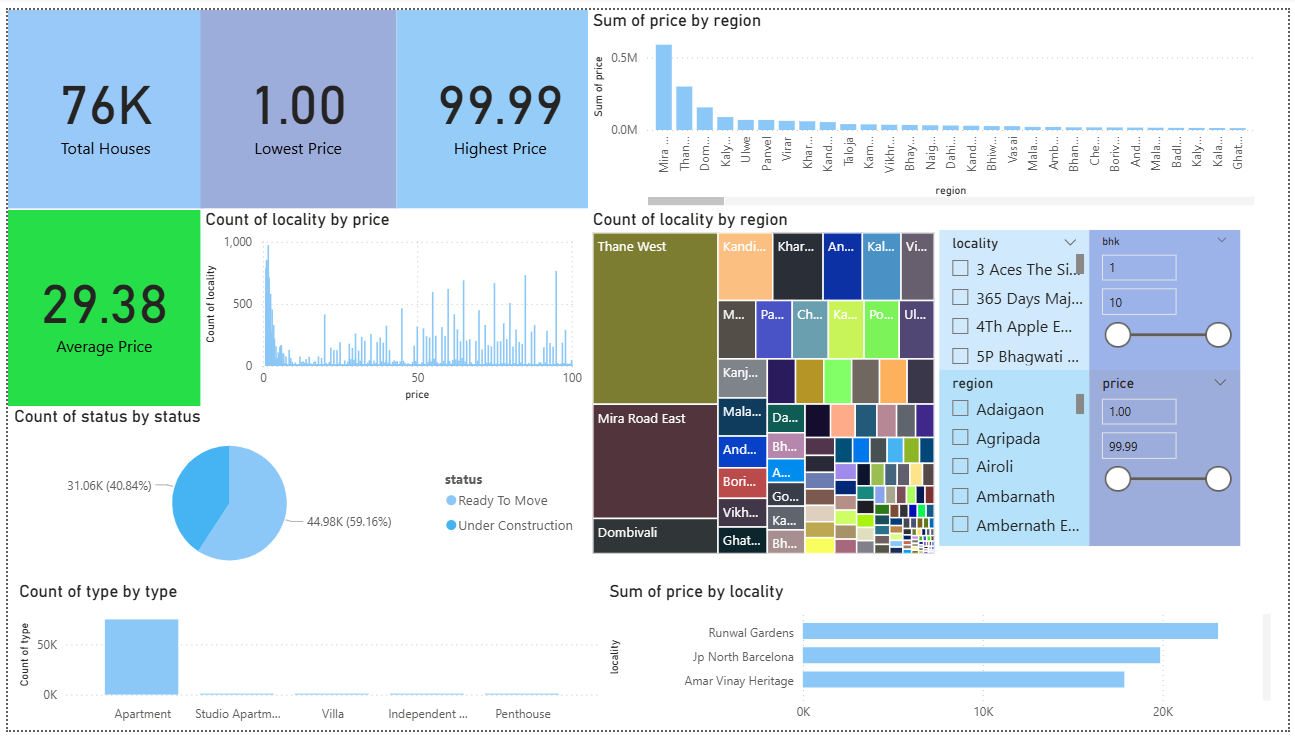

This screenshot's page, from the dashboard's own definition file:
{"tool":"powerbi","page":{"name":"Page 1","canvas":[1280,720],"ordinal":0},"visuals":[{"type":"card","fields":{"Values":["mumbai_house_prices_cleaned.Total Houses"]},"box":[0,0,195.7,198.6],"z":0},{"type":"card","fields":{"Values":["mumbai_house_prices_cleaned.Average Price"]},"box":[0,200,192.9,195.7],"z":1000},{"type":"card","fields":{"Values":["mumbai_house_prices_cleaned.Highest Price"]},"box":[388.6,0,207.1,198.6],"z":2000},{"type":"card","fields":{"Values":["mumbai_house_prices_cleaned.Lowest Price"]},"box":[192.9,0,195.7,198.6],"z":3000},{"type":"clusteredColumnChart","fields":{"Y":["CountNonNull(mumbai_house_prices_cleaned.locality)"],"Category":["mumbai_house_prices_cleaned.price"]},"box":[192.9,198.6,387.1,197.1],"z":4000},{"type":"clusteredColumnChart","fields":{"Category":["mumbai_house_prices_cleaned.region"],"Y":["Sum(mumbai_house_prices_cleaned.price)"]},"box":[580,0,671.4,200],"z":5000},{"type":"clusteredBarChart","fields":{"Category":["mumbai_house_prices_cleaned.locality"],"Y":["Sum(mumbai_house_prices_cleaned.price)"]},"box":[595.7,571.4,671.4,148.6],"z":6000},{"type":"pieChart","fields":{"Category":["mumbai_house_prices_cleaned.status"],"Y":["CountNonNull(mumbai_house_prices_cleaned.status)"]},"box":[1.2,396.2,578.8,175],"z":7000},{"type":"columnChart","fields":{"Category":["mumbai_house_prices_cleaned.type"],"Y":["CountNonNull(mumbai_house_prices_cleaned.type)"]},"box":[5.7,571.4,590,148.6],"z":8000},{"type":"treemap","fields":{"Values":["CountNonNull(mumbai_house_prices_cleaned.locality)"],"Details":["mumbai_house_prices_cleaned.region"]},"box":[580,198.6,351.4,350],"z":9000},{"type":"slicer","fields":{"Values":["mumbai_house_prices_cleaned.locality"]},"box":[931.4,220,150,140],"z":10000},{"type":"slicer","fields":{"Values":["mumbai_house_prices_cleaned.region"]},"box":[931.4,360,150,175.7],"z":11000},{"type":"slicer","fields":{"Values":["mumbai_house_prices_cleaned.bhk"]},"box":[1081.4,220,150,140],"z":12000},{"type":"slicer","fields":{"Values":["mumbai_house_prices_cleaned.price"]},"box":[1081.4,360,150,175.7],"z":13000}]}

Visuals, with their boxes in screenshot pixels (x1, y1, x2, y2), scaled from the page's 1280x720 canvas onto the 1295x740 screenshot:
card - mumbai_house_prices_cleaned.Total Houses: locate(0, 0, 198, 204)
card - mumbai_house_prices_cleaned.Average Price: locate(0, 206, 195, 407)
card - mumbai_house_prices_cleaned.Highest Price: locate(393, 0, 603, 204)
card - mumbai_house_prices_cleaned.Lowest Price: locate(195, 0, 393, 204)
clusteredColumnChart - CountNonNull(mumbai_house_prices_cleaned.locality) x mumbai_house_prices_cleaned.price: locate(195, 204, 587, 407)
clusteredColumnChart - mumbai_house_prices_cleaned.region x Sum(mumbai_house_prices_cleaned.price): locate(587, 0, 1266, 206)
clusteredBarChart - mumbai_house_prices_cleaned.locality x Sum(mumbai_house_prices_cleaned.price): locate(603, 587, 1282, 739)
pieChart - mumbai_house_prices_cleaned.status x CountNonNull(mumbai_house_prices_cleaned.status): locate(1, 407, 587, 587)
columnChart - mumbai_house_prices_cleaned.type x CountNonNull(mumbai_house_prices_cleaned.type): locate(6, 587, 603, 739)
treemap - CountNonNull(mumbai_house_prices_cleaned.locality) x mumbai_house_prices_cleaned.region: locate(587, 204, 942, 564)
slicer - mumbai_house_prices_cleaned.locality: locate(942, 226, 1094, 370)
slicer - mumbai_house_prices_cleaned.region: locate(942, 370, 1094, 551)
slicer - mumbai_house_prices_cleaned.bhk: locate(1094, 226, 1246, 370)
slicer - mumbai_house_prices_cleaned.price: locate(1094, 370, 1246, 551)
